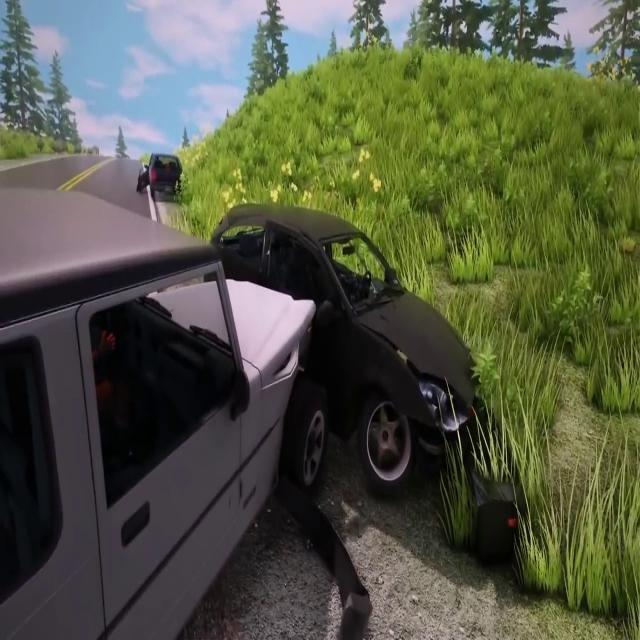accident: (0, 177, 480, 639)
